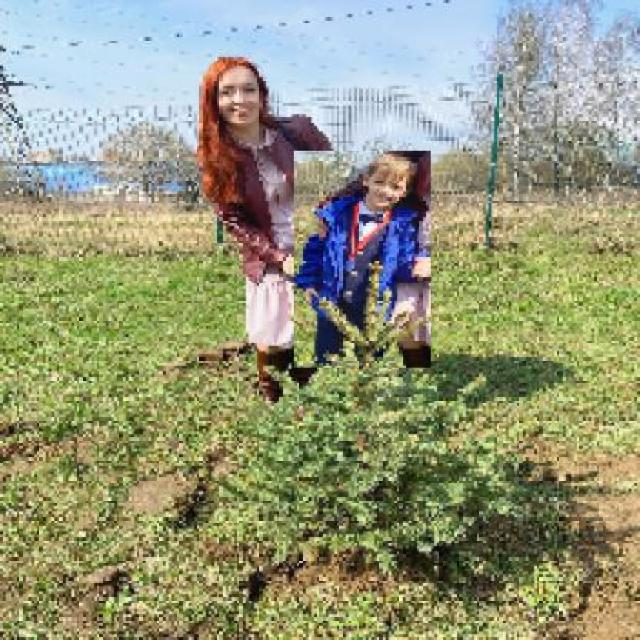child: (292, 151, 431, 369)
